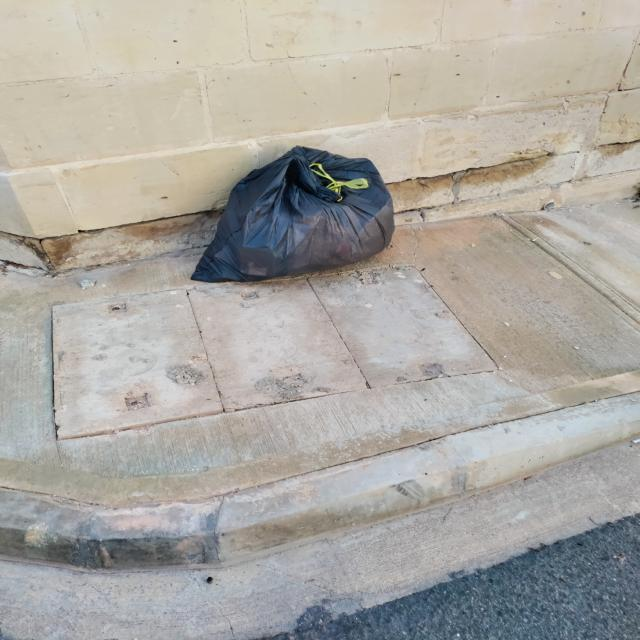Mixed Waste: (192, 146, 394, 282)
